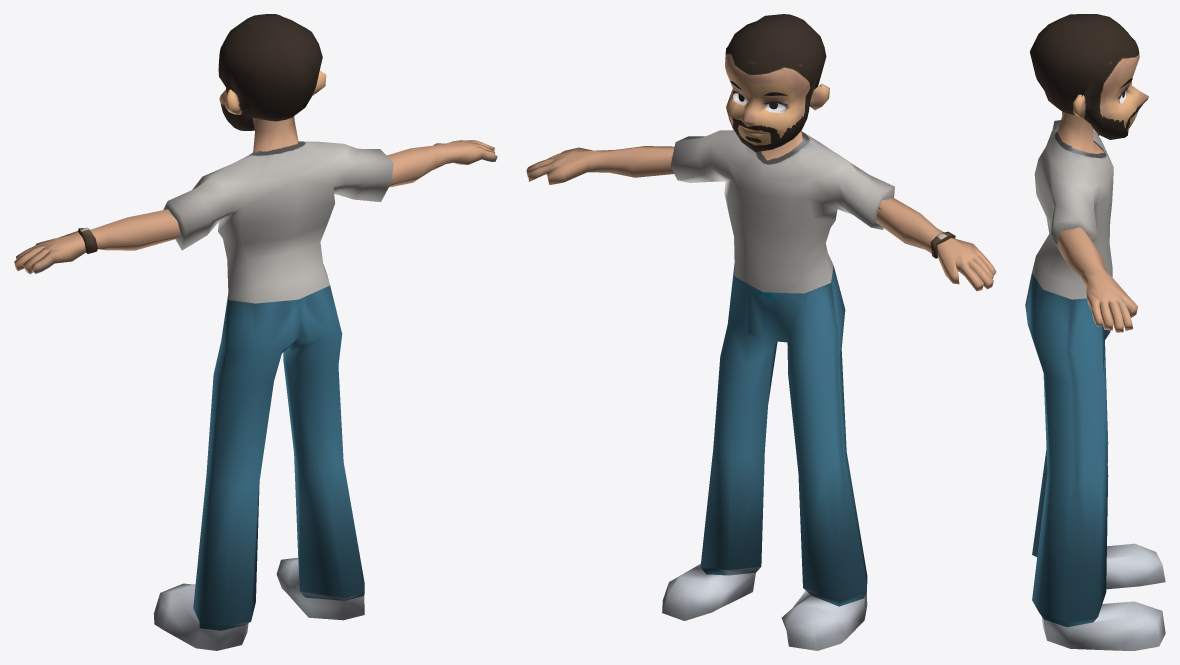
The model's file is omar.fbx.
3 views of the same model, side by side, from view 1: azimuth 30°, elevation 25°; view 2: azimuth 150°, elevation 25°; view 3: azimuth 270°, elevation 25° (orthographic). The views are drawn at different scales.
Parts seen in each view (by area): view 1: Cylinder.003, Plane; view 2: Cylinder.003, Plane; view 3: Cylinder.003, Plane.
Boxes of the visible parts, box(x1,y1,x2,y2) form: Cylinder.003: box(14, 116, 497, 650); Plane: box(218, 14, 326, 130); Cylinder.003: box(526, 130, 996, 650); Plane: box(725, 14, 829, 152); Cylinder.003: box(1025, 111, 1165, 650); Plane: box(1030, 14, 1148, 139).
Size of the model in its own units: 1329 by 1605 by 344.
Materials: 5 (3 with a texture image).
